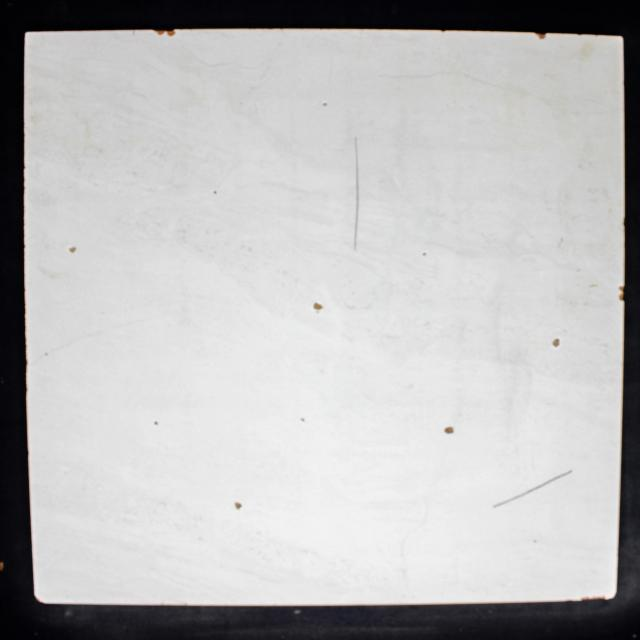edge-chipping: (154, 30, 176, 36), (618, 285, 625, 302), (581, 596, 605, 600), (534, 32, 546, 40)
hole: (551, 338, 560, 348), (313, 302, 322, 310), (234, 502, 242, 510), (444, 428, 454, 433), (154, 420, 160, 426), (70, 247, 76, 253), (213, 190, 218, 195), (422, 253, 427, 256)
line: (29, 322, 129, 364), (492, 469, 572, 509), (353, 137, 358, 249)
